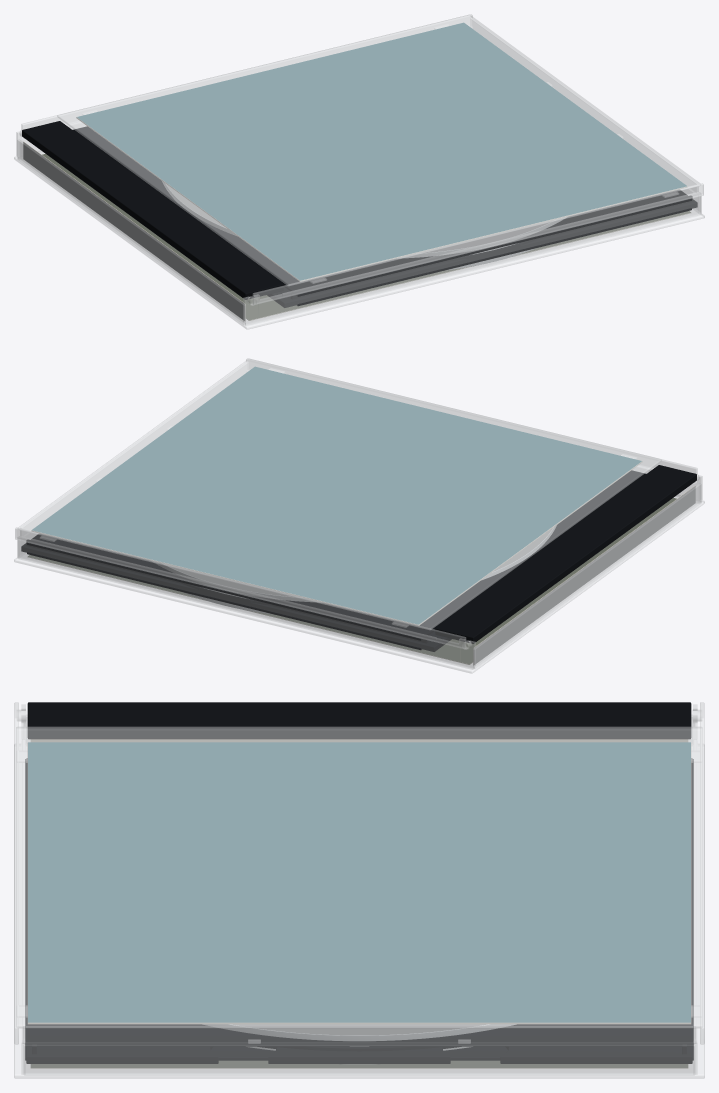
Rendered from jewel-swing-4.glb.
3 renders of one model, top to bottom at view 1: azimuth 30°, elevation 25°; view 2: azimuth 150°, elevation 25°; view 3: azimuth 270°, elevation 25°, orthographic. The views are drawn at different scales.
Parts seen in each view (by area): view 1: Lid_Hinge_Y__Polystyrene_Clear.002, Booklet_paper, Fixed_Base_And_Tray__Polystyrene_Clear.002, Fixed_spine_foundation, Double_sided_swing_frame, Spine_card_return, Fixed_Base_And_Tray__Tray_Graphite.004, Rear_card, CD_reflective_ring, Double_sided_swing_frame_extra; view 2: Lid_Hinge_Y__Polystyrene_Clear.002, Booklet_paper, Fixed_Base_And_Tray__Polystyrene_Clear.002, Fixed_spine_foundation, Double_sided_swing_frame, Spine_card_return, Fixed_Base_And_Tray__Tray_Graphite.004, Rear_card, CD_reflective_ring, Double_sided_swing_frame_extra; view 3: Lid_Hinge_Y__Polystyrene_Clear.002, Booklet_paper, Fixed_Base_And_Tray__Polystyrene_Clear.002, Fixed_spine_foundation, Double_sided_swing_frame, Fixed_Base_And_Tray__Tray_Graphite.004, CD_reflective_ring, Rear_card, Spine_card_return, Double_sided_swing_frame_extra.
Part boxes in pixels (x1,y1,x2,y2): Lid_Hinge_Y__Polystyrene_Clear.002: [19, 14, 703, 305]; Booklet_paper: [76, 22, 687, 281]; Fixed_Base_And_Tray__Polystyrene_Clear.002: [14, 121, 704, 329]; Fixed_spine_foundation: [22, 121, 283, 299]; Double_sided_swing_frame: [73, 126, 691, 296]; Spine_card_return: [23, 141, 245, 320]; Fixed_Base_And_Tray__Tray_Graphite.004: [267, 190, 697, 307]; Rear_card: [42, 154, 691, 320]; CD_reflective_ring: [162, 181, 566, 258]; Double_sided_swing_frame_extra: [297, 208, 691, 306]; Lid_Hinge_Y__Polystyrene_Clear.002: [15, 358, 699, 649]; Booklet_paper: [31, 366, 642, 625]; Fixed_Base_And_Tray__Polystyrene_Clear.002: [14, 465, 704, 673]; Fixed_spine_foundation: [435, 465, 696, 643]; Double_sided_swing_frame: [27, 470, 645, 640]; Spine_card_return: [473, 485, 695, 664]; Fixed_Base_And_Tray__Tray_Graphite.004: [21, 534, 451, 651]; Rear_card: [27, 498, 676, 664]; CD_reflective_ring: [152, 525, 556, 602]; Double_sided_swing_frame_extra: [27, 552, 421, 650]; Lid_Hinge_Y__Polystyrene_Clear.002: [14, 702, 704, 1044]; Booklet_paper: [27, 742, 691, 1024]; Fixed_Base_And_Tray__Polystyrene_Clear.002: [14, 704, 704, 1078]; Fixed_spine_foundation: [27, 702, 691, 739]; Double_sided_swing_frame: [25, 759, 693, 1046]; Fixed_Base_And_Tray__Tray_Graphite.004: [26, 758, 692, 1063]; CD_reflective_ring: [202, 1024, 516, 1041]; Rear_card: [30, 1060, 688, 1068]; Spine_card_return: [30, 739, 688, 742]; Double_sided_swing_frame_extra: [25, 1046, 693, 1060].
Bounding box in the file's own units: 0.142 × 0.0104 × 0.125.
